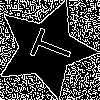T: (21, 24, 76, 69)
